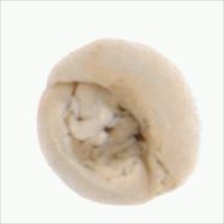L3: (63, 80, 154, 169)
L4: (37, 39, 201, 207)
